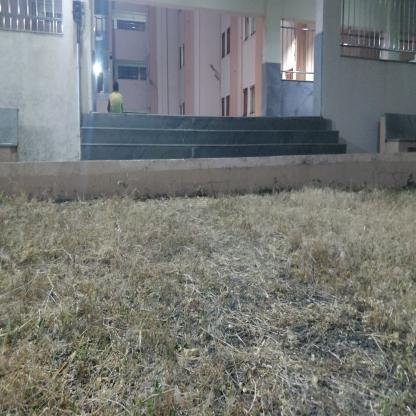stairs: (94, 115, 325, 157)
